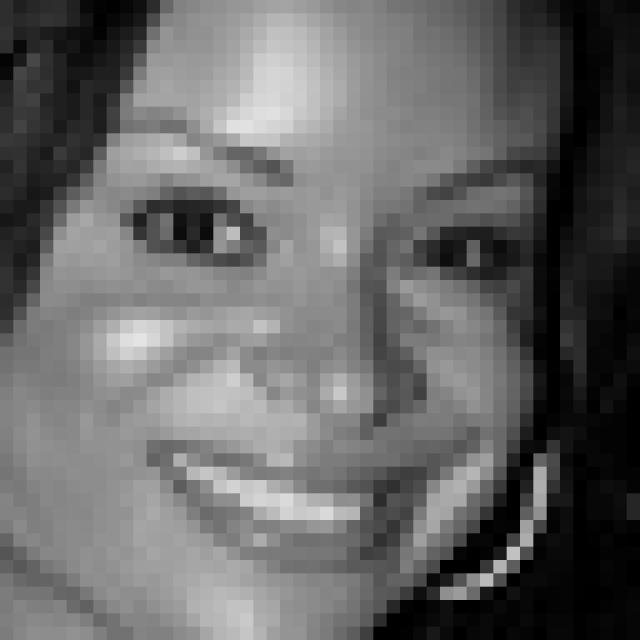happy: (111, 106, 541, 568)
